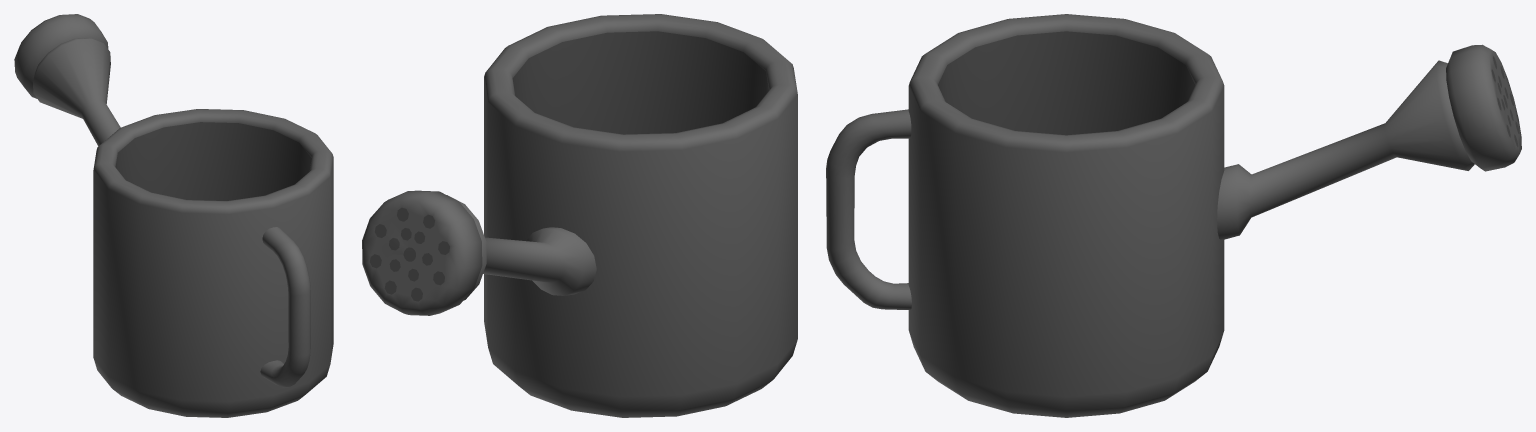
The model's file is Tool3.fbx.
3 views of the same model, side by side, from view 1: azimuth 30°, elevation 25°; view 2: azimuth 150°, elevation 25°; view 3: azimuth 270°, elevation 25° (orthographic). The views are drawn at different scales.
Visible parts, largest first — view 1: Cylinder.034; view 2: Cylinder.034; view 3: Cylinder.034.
Boxes of the visible parts, x1,y1,x2,y2 form: Cylinder.034: (14,14,333,417); Cylinder.034: (362,14,797,417); Cylinder.034: (826,14,1521,417).
Bounding box in the file's own units: 0.3924 × 0.8649 × 0.4361.
